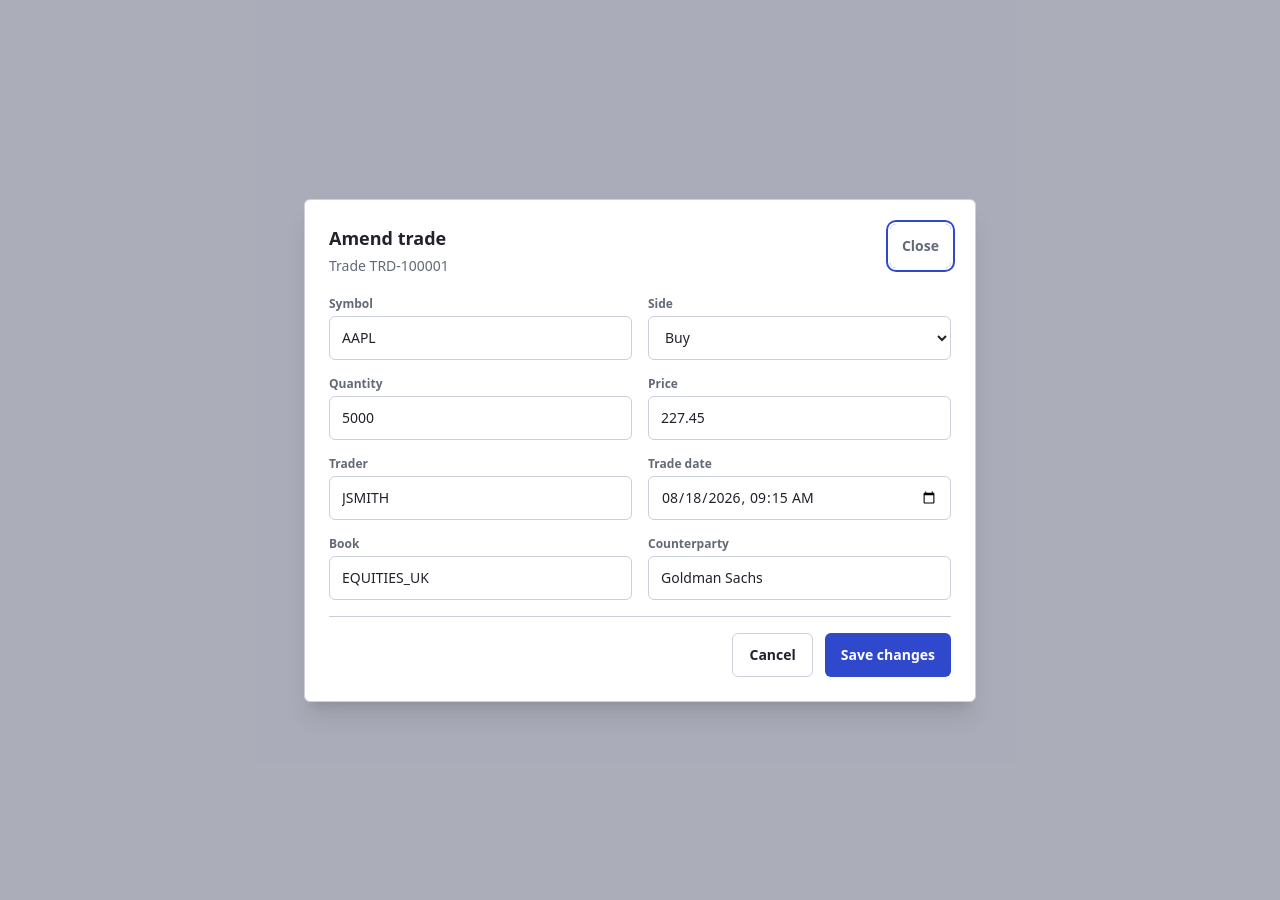
Test: AmendTradeDialog › shows a safe error and retains the draft when submission fails
Step 1. Replace the text in the field labelled "Symbol" with "MSFT" → (480, 338), box [329,316,632,360]
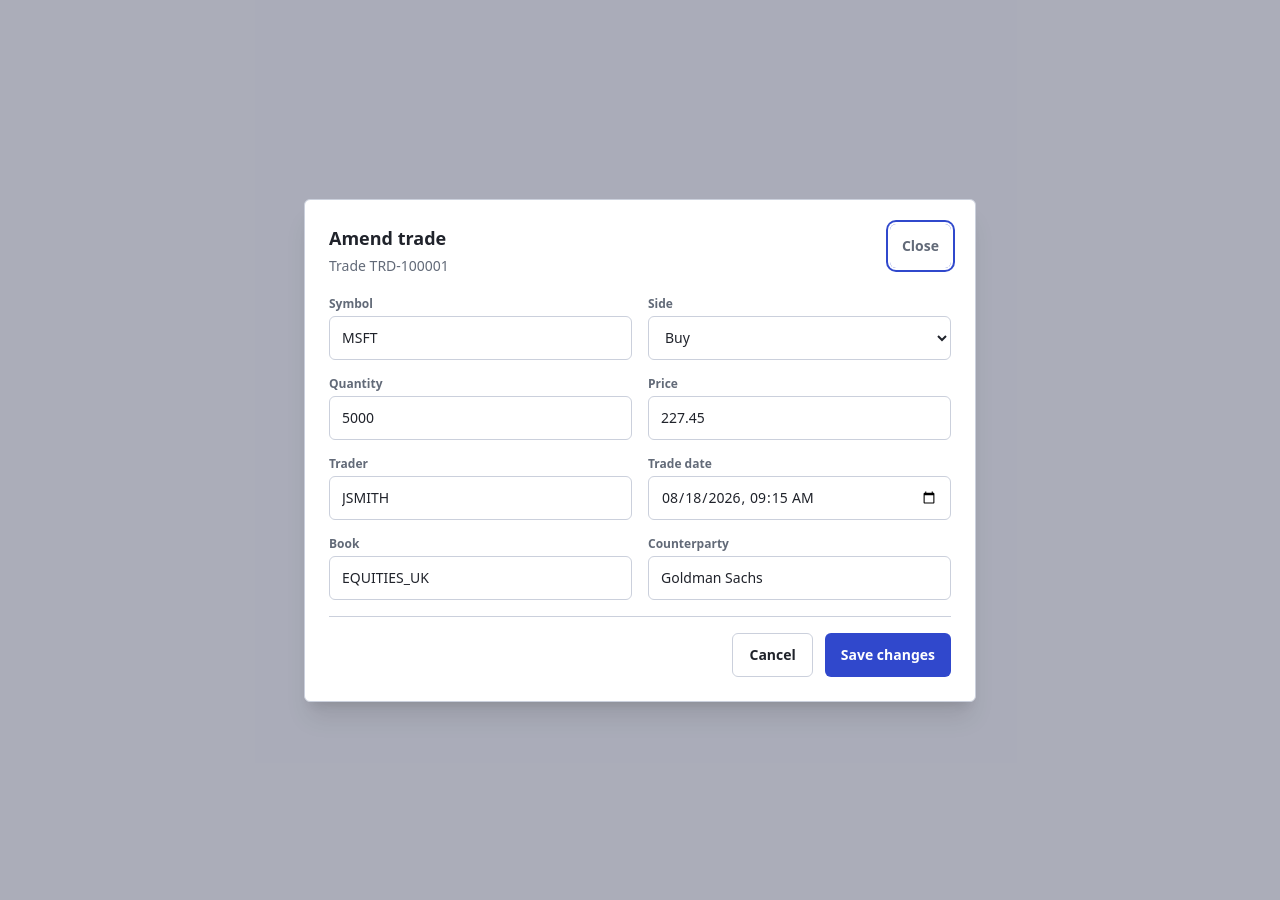
Step 2. Click the button "Save changes" → (888, 654), box [825,632,951,676]
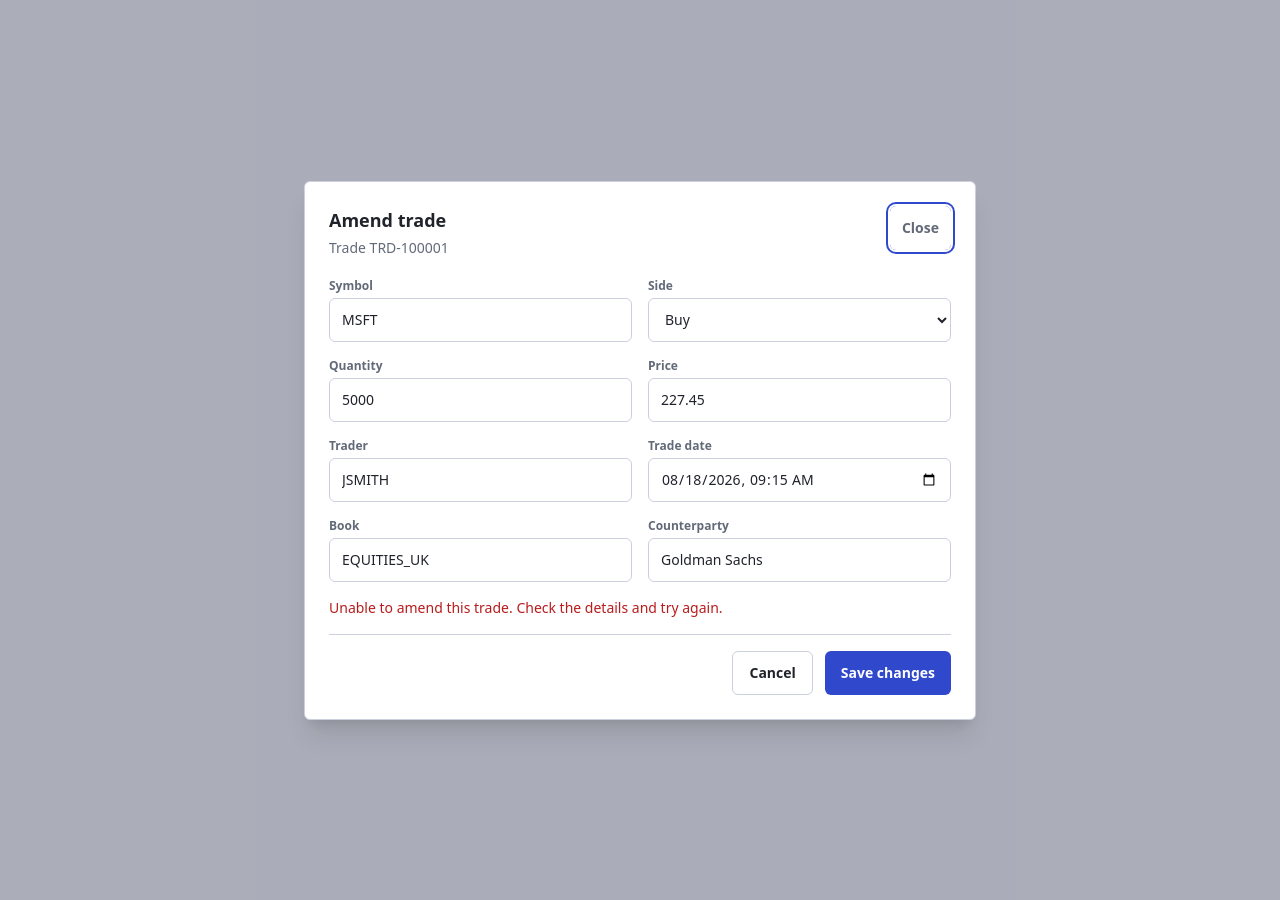
Expected: the message reads "Unable to amend this trade. Check the details and try again.", [329,598,722,616]
